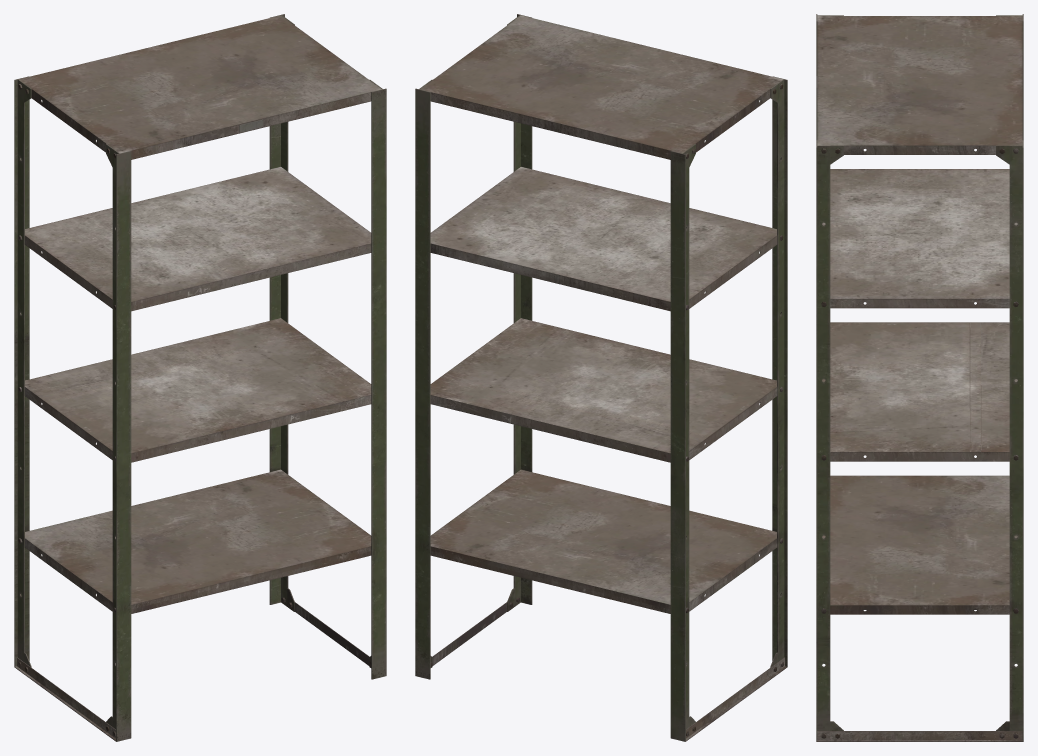
File: worn_metal_rack.glb
The picture shows the model from 3 angles, left to right: view 1: azimuth 30°, elevation 25°; view 2: azimuth 150°, elevation 25°; view 3: azimuth 270°, elevation 25°; orthographic projection.
Visible parts, largest first — view 1: worn_metal_rack; view 2: worn_metal_rack; view 3: worn_metal_rack.
Part boxes in pixels (x1=…): worn_metal_rack: x1=14, y1=14, x2=386, y2=741; worn_metal_rack: x1=415, y1=14, x2=787, y2=741; worn_metal_rack: x1=816, y1=14, x2=1023, y2=741.
Bounding box in the file's own units: 0.9154 × 1.9 × 0.6.
Materials: 1 (1 with a texture image).
